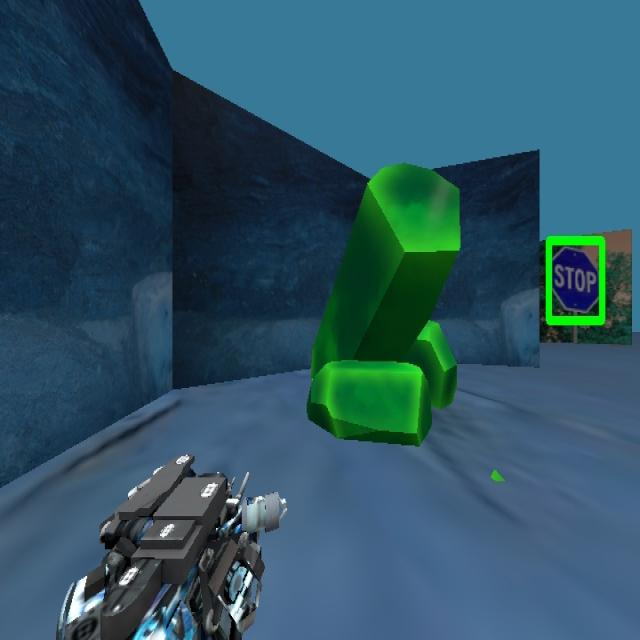Diamon: (306, 160, 461, 447)
Stop_Sign: (544, 233, 606, 327)
